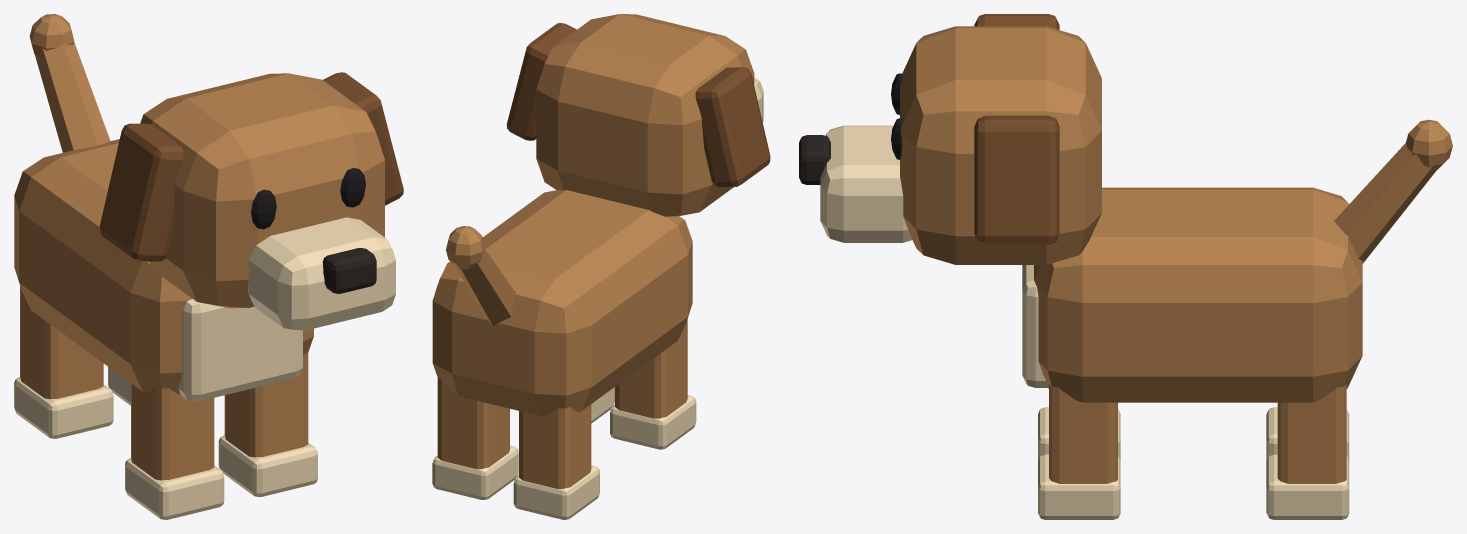
Rendered from dog_brown.glb.
3 renders of one model, left to right at view 1: azimuth 30°, elevation 25°; view 2: azimuth 150°, elevation 25°; view 3: azimuth 270°, elevation 25°, orthographic. The views are drawn at different scales.
Parts seen in each view (by area): view 1: head_mesh, body_mesh, leg_fr_mesh, leg_fl_mesh, leg_br_mesh, ear_r_mesh, tail_mesh, ear_l_mesh, leg_bl_mesh; view 2: body_mesh, head_mesh, leg_br_mesh, leg_bl_mesh, leg_fr_mesh, ear_r_mesh, tail_mesh, ear_l_mesh, leg_fl_mesh; view 3: body_mesh, head_mesh, ear_l_mesh, leg_bl_mesh, leg_fl_mesh, tail_mesh, ear_r_mesh, leg_br_mesh.
Part boxes in pixels (x1,y1,x2,y2): head_mesh: (140, 73, 395, 330); body_mesh: (14, 139, 313, 401); leg_fr_mesh: (125, 383, 224, 519); leg_fl_mesh: (218, 353, 317, 496); leg_br_mesh: (14, 286, 113, 438); ear_r_mesh: (99, 123, 183, 261); tail_mesh: (29, 14, 110, 152); ear_l_mesh: (323, 72, 403, 205); leg_bl_mesh: (108, 367, 130, 405); body_mesh: (432, 190, 692, 416); head_mesh: (536, 14, 763, 216); leg_br_mesh: (513, 404, 599, 519); leg_bl_mesh: (432, 378, 518, 499); leg_fr_mesh: (610, 319, 696, 449); ear_r_mesh: (695, 67, 770, 187); tail_mesh: (446, 226, 515, 326); ear_l_mesh: (506, 23, 576, 140); leg_fl_mesh: (591, 387, 614, 423); body_mesh: (1022, 187, 1362, 402); head_mesh: (799, 26, 1101, 264); ear_l_mesh: (974, 115, 1059, 244); leg_bl_mesh: (1266, 384, 1349, 519); leg_fl_mesh: (1038, 384, 1120, 519); tail_mesh: (1334, 119, 1452, 263); ear_r_mesh: (974, 14, 1059, 29); leg_br_mesh: (1266, 407, 1349, 460).
Size of the model in its own units: 0.607 by 0.89 by 1.23.
